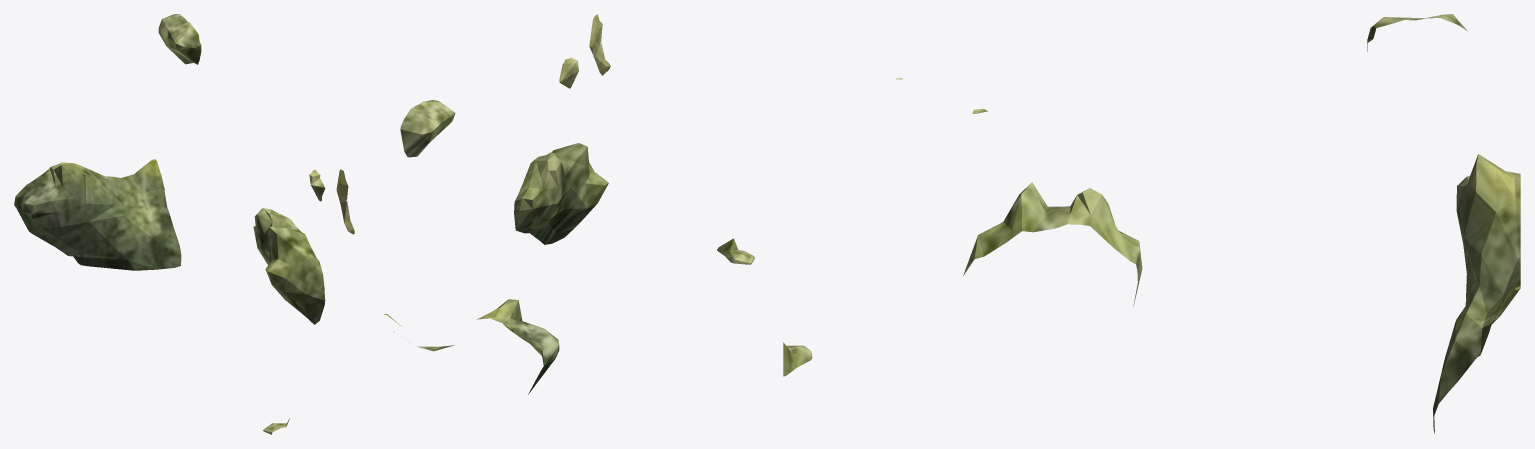
3 views of the same model, side by side, from view 1: azimuth 30°, elevation 25°; view 2: azimuth 150°, elevation 25°; view 3: azimuth 270°, elevation 25° (orthographic). The views are drawn at different scales.
Size of the model in its own units: 2.2 by 3.68 by 5.9.
Materials: 1 (1 with a texture image).
